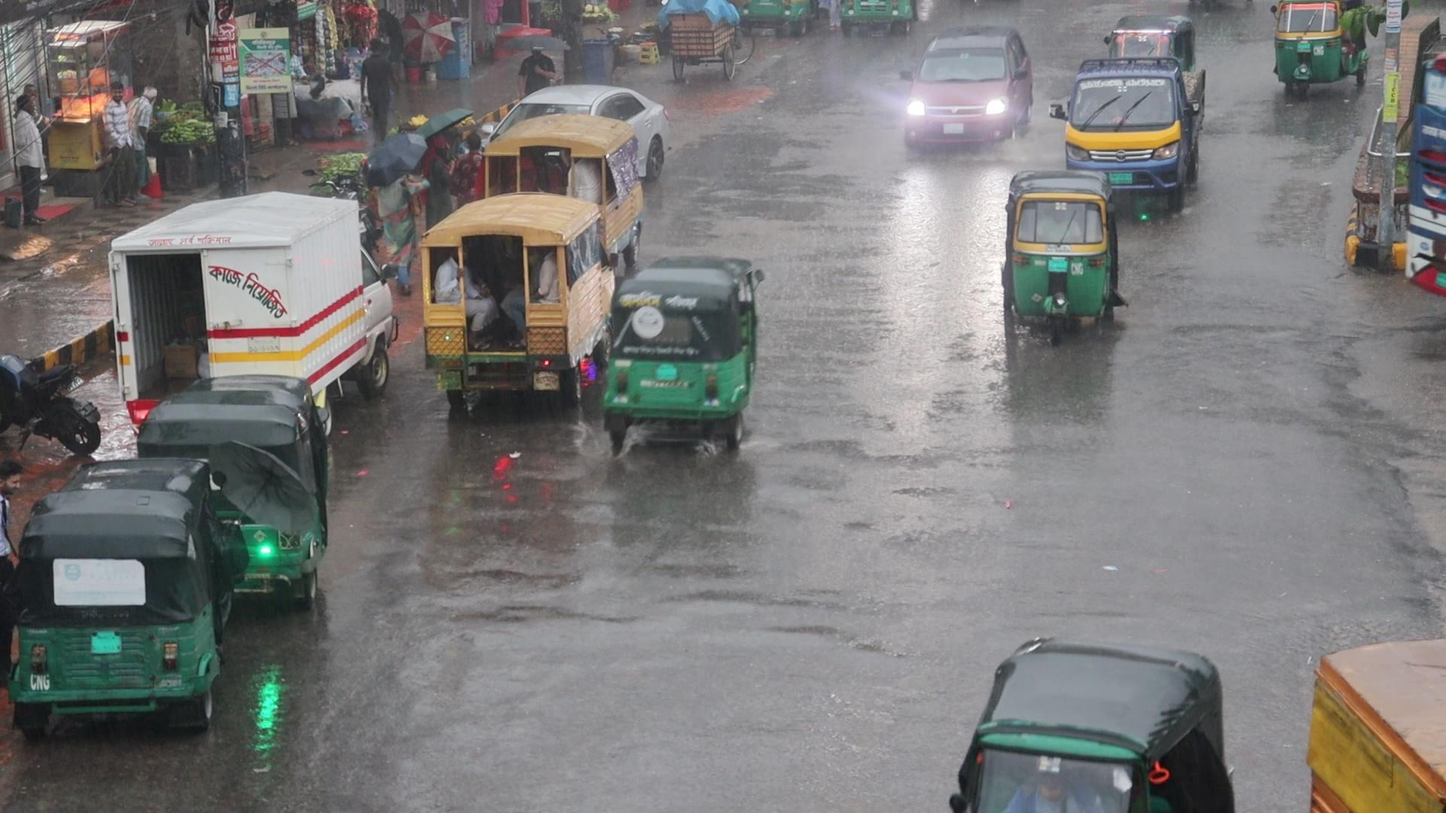Car: (899, 23, 1034, 154)
Truck: (416, 189, 608, 410), (1047, 52, 1208, 173)
